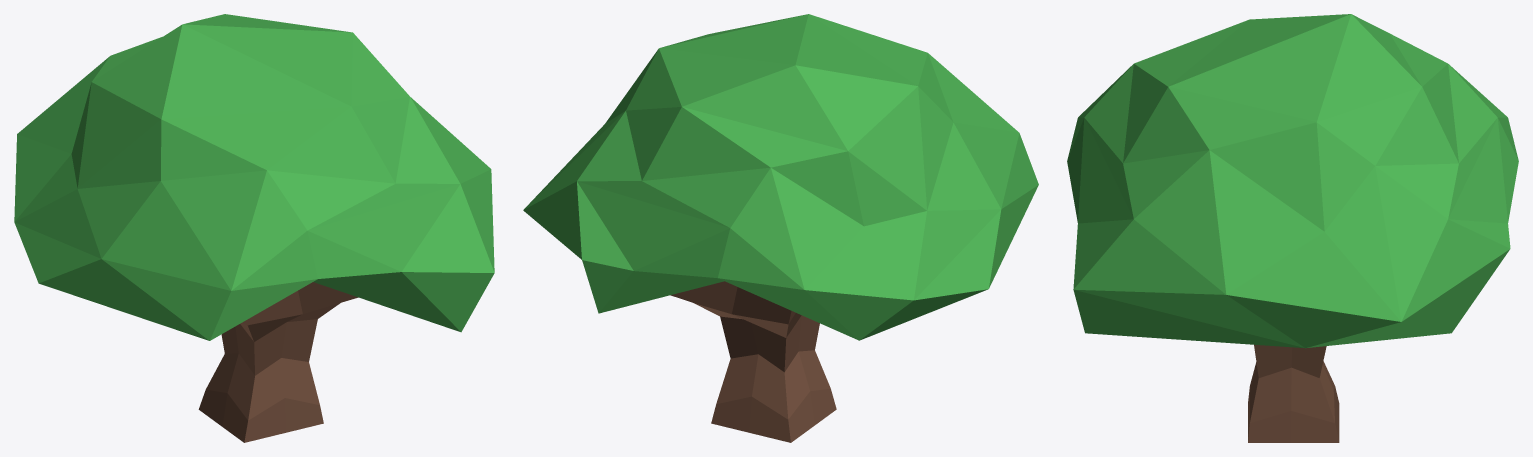
File: Tree_34_Green.fbx
The picture shows the model from 3 angles, left to right: view 1: azimuth 30°, elevation 25°; view 2: azimuth 150°, elevation 25°; view 3: azimuth 270°, elevation 25°; orthographic projection.
Visible parts, largest first — view 1: Tree_34_Green_Part_1, Tree_34_Green_Part_2; view 2: Tree_34_Green_Part_1, Tree_34_Green_Part_2; view 3: Tree_34_Green_Part_1, Tree_34_Green_Part_2.
Part boxes in pixels (left/top/right/bottom): Tree_34_Green_Part_1: left=14, top=14, right=494, bottom=340; Tree_34_Green_Part_2: left=198, top=282, right=358, bottom=442; Tree_34_Green_Part_1: left=523, top=14, right=1038, bottom=340; Tree_34_Green_Part_2: left=670, top=281, right=836, bottom=442; Tree_34_Green_Part_1: left=1067, top=14, right=1518, bottom=348; Tree_34_Green_Part_2: left=1248, top=344, right=1339, bottom=442.
Bounding box in the file's own units: 804 × 710 × 755.
